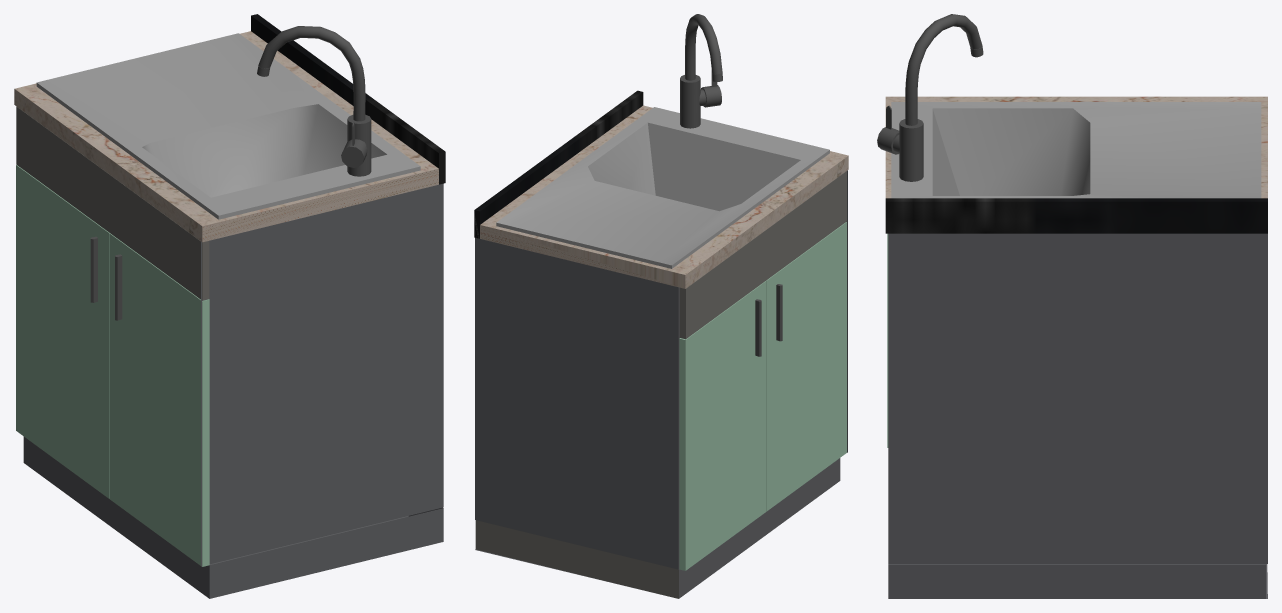
File: table_cook_2.fbx
The picture shows the model from 3 angles, left to right: view 1: azimuth 30°, elevation 25°; view 2: azimuth 150°, elevation 25°; view 3: azimuth 270°, elevation 25°; orthographic projection. The views are drawn at different scales.
Parts seen in each view (by area): view 1: table_cook_2; view 2: table_cook_2; view 3: table_cook_2.
Boxes of the visible parts, bbox=[...] form: table_cook_2: bbox=[14, 14, 445, 598]; table_cook_2: bbox=[474, 14, 848, 598]; table_cook_2: bbox=[877, 14, 1267, 598].
Bounding box in the file's own units: 17.51 × 23.42 × 35.01.
8 materials, 2 textured.
